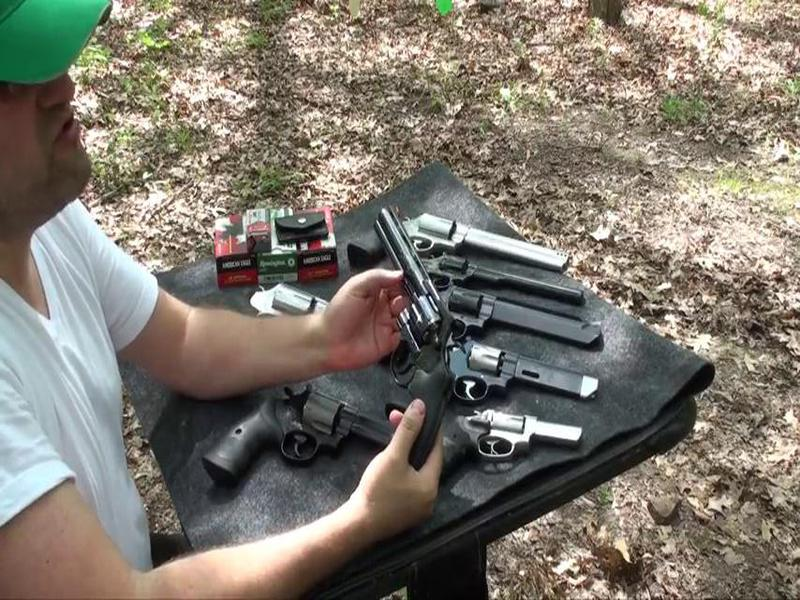Revolver: (340, 214, 474, 450)
